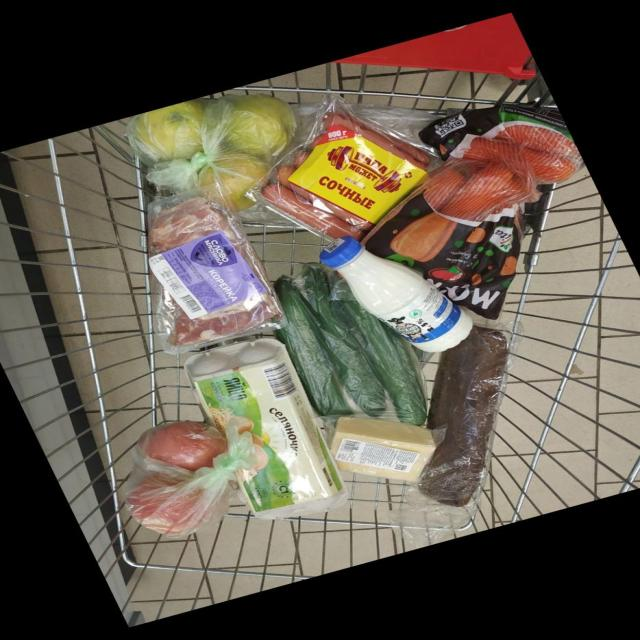Apple: (224, 95, 295, 161), (130, 99, 204, 160), (198, 152, 268, 211)
Bread: (418, 327, 507, 507)
Carrot: (461, 137, 575, 184), (438, 165, 513, 221), (495, 124, 571, 152), (423, 168, 464, 211), (508, 182, 529, 204)
Cheese: (325, 416, 435, 483)
Cucumber: (292, 263, 391, 416), (331, 280, 427, 426), (273, 275, 352, 416)
Eggs: (184, 339, 347, 519)
Meat: (147, 190, 284, 354)
Milk: (319, 236, 472, 353)
Sausages: (252, 96, 436, 240)
Tomatoes: (124, 473, 198, 536), (135, 421, 226, 471)
